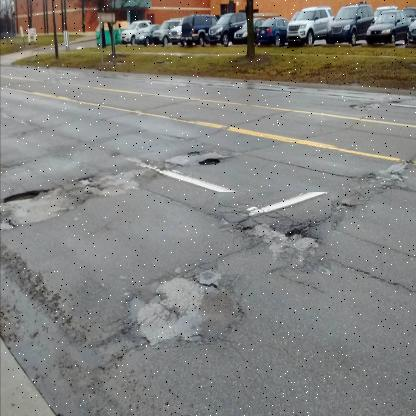damage: (119, 254, 234, 378), (0, 162, 116, 248), (217, 192, 331, 275)
